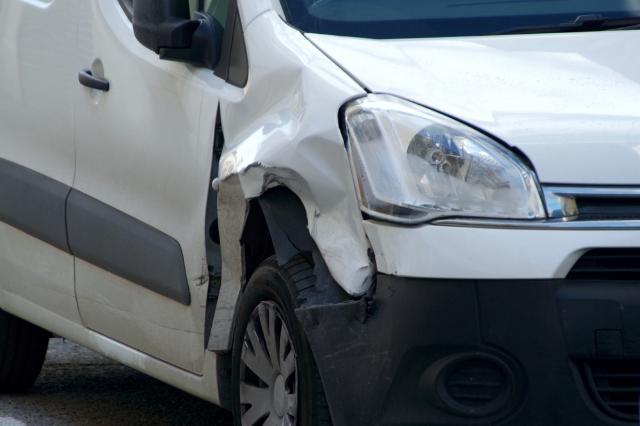dent: (223, 65, 372, 290)
